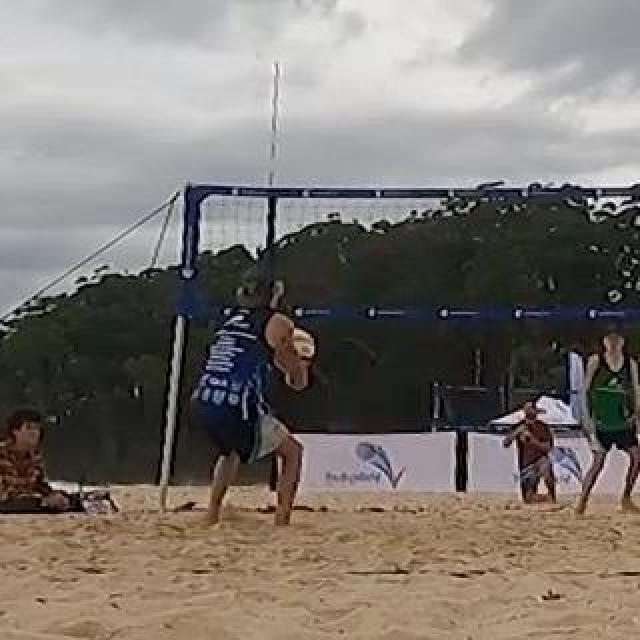volleyball: (273, 326, 315, 372)
